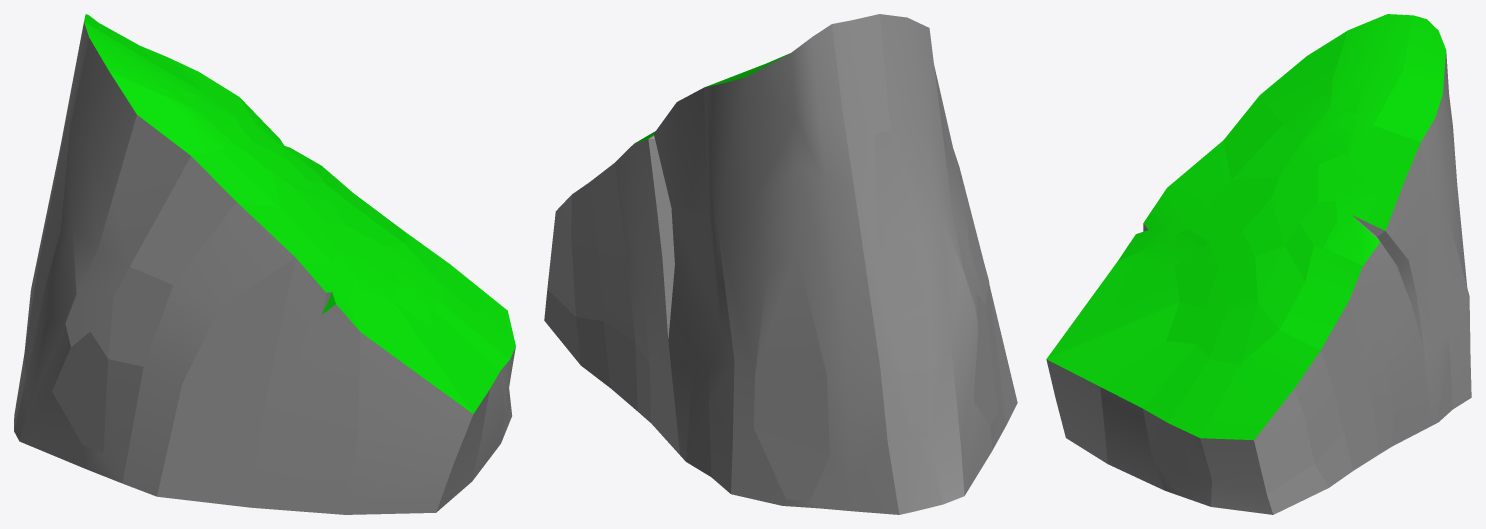
Rendered from rock_jungle_big_C.fbx.
3 views of the same model, side by side, from view 1: azimuth 30°, elevation 25°; view 2: azimuth 150°, elevation 25°; view 3: azimuth 270°, elevation 25° (orthographic). The views are drawn at different scales.
Visible parts, largest first — view 1: rock_jungle_big_C; view 2: rock_jungle_big_C; view 3: rock_jungle_big_C.
Part boxes in pixels (x1,y1,x2,y2): rock_jungle_big_C: (14, 14, 515, 514); rock_jungle_big_C: (544, 14, 1017, 514); rock_jungle_big_C: (1046, 14, 1471, 514).
Bounding box in the file's own units: 118 × 105 × 115.
